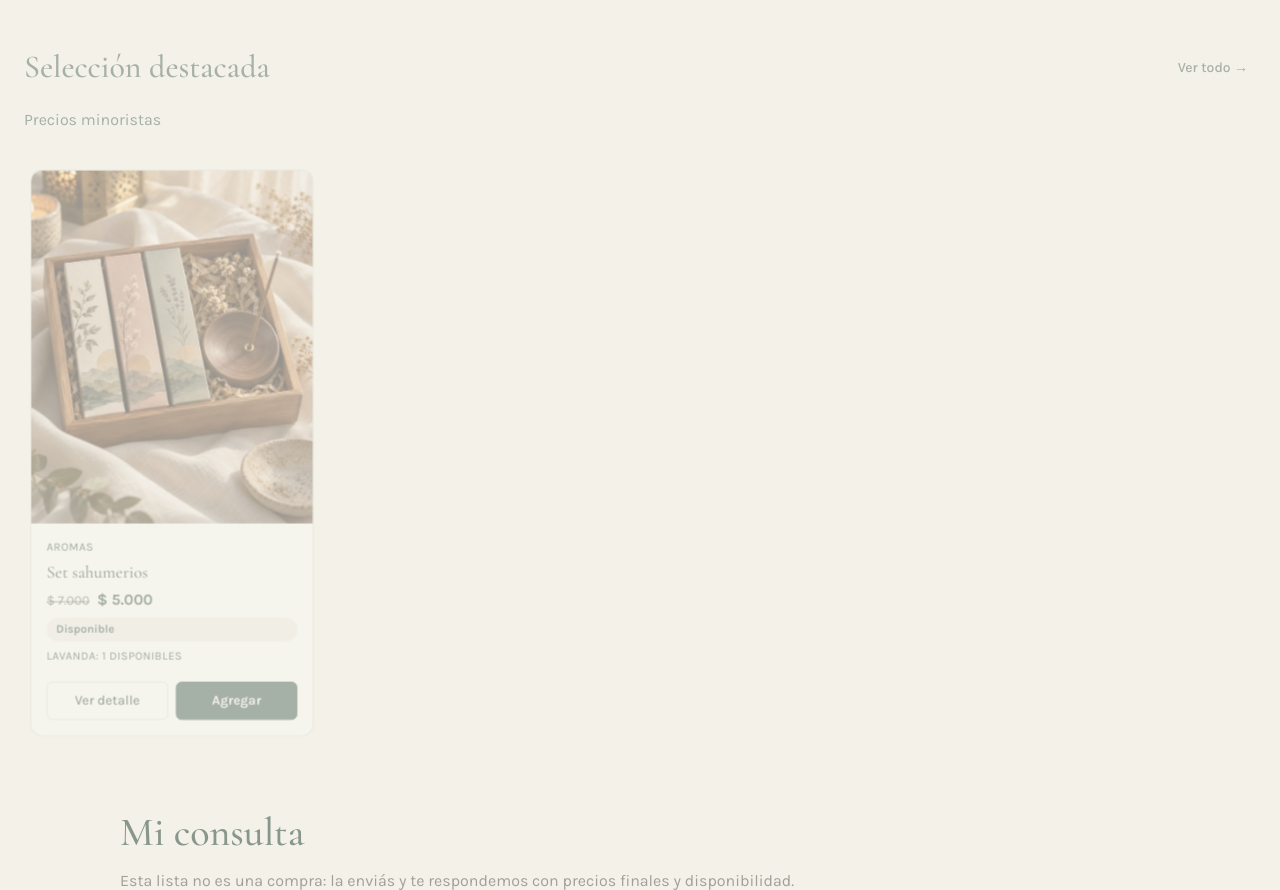
la tarjeta muestra el descuento y limita el stock de la misma variante que agrega
What coordinates should you click on to do the following:
click the button with aria-label "Agregar Set sahumerios a mi consulta"
I would click on:
 (237, 701)
Its box is [176,682,297,720].
(page scrolled)
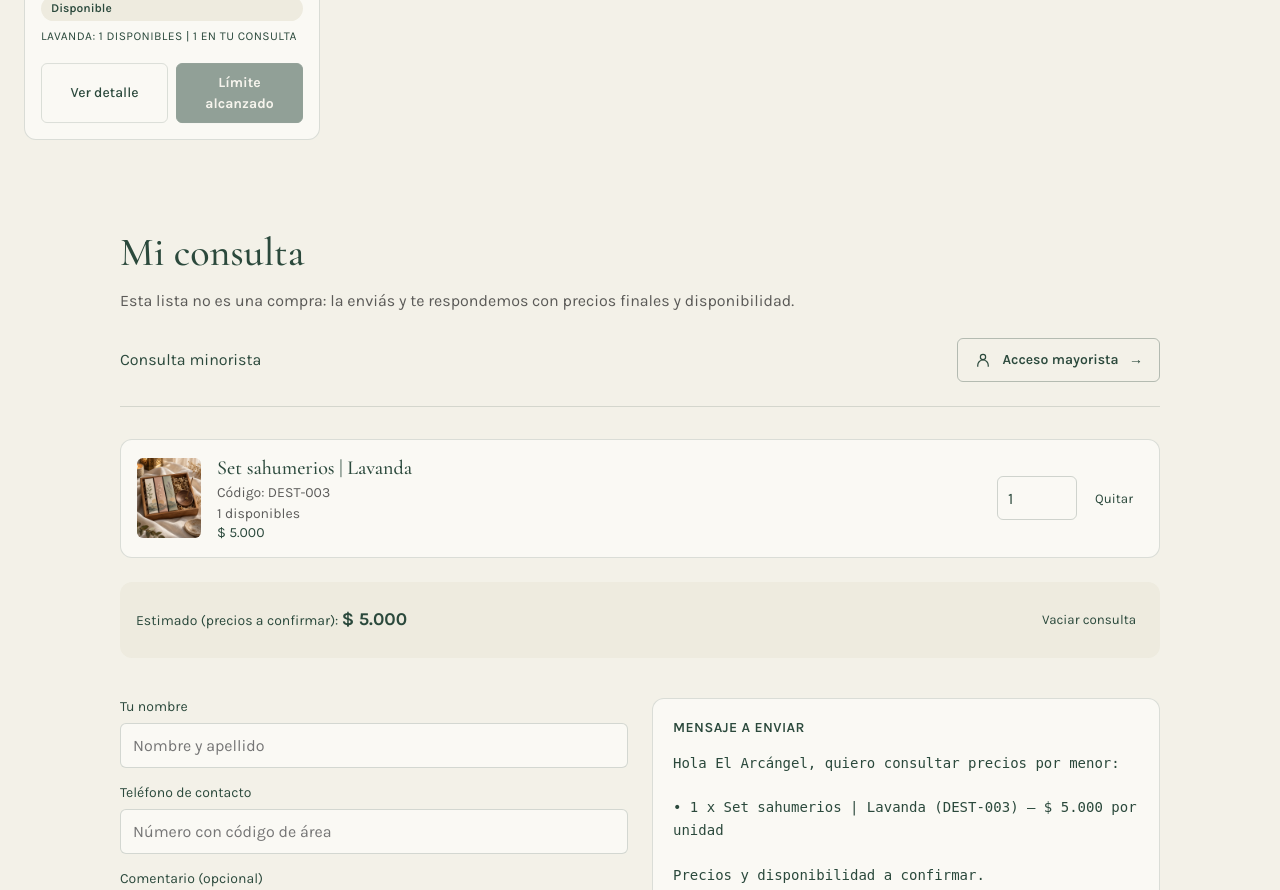
Expected: the number field named "Cantidad de Set sahumerios | Lavanda" holds "1", [997,476,1077,520]
Now the button with aria-label "Agregar Set sahumerios a mi consulta" is disabled, box [176,63,303,123]
